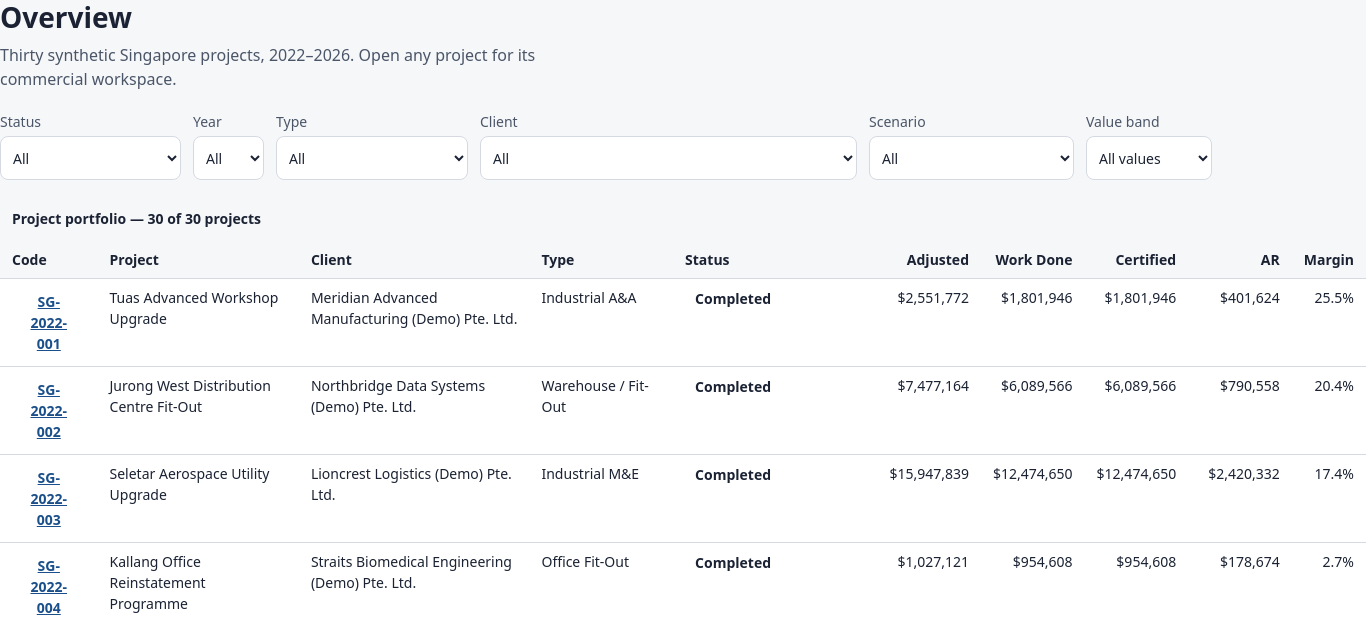
Test: PortfolioView (TASK-004) › filters by value band
Select "≥ S$50M" in the dropdown labelled "Value band". click: (1149, 158)
box: [1086, 136, 1212, 180]
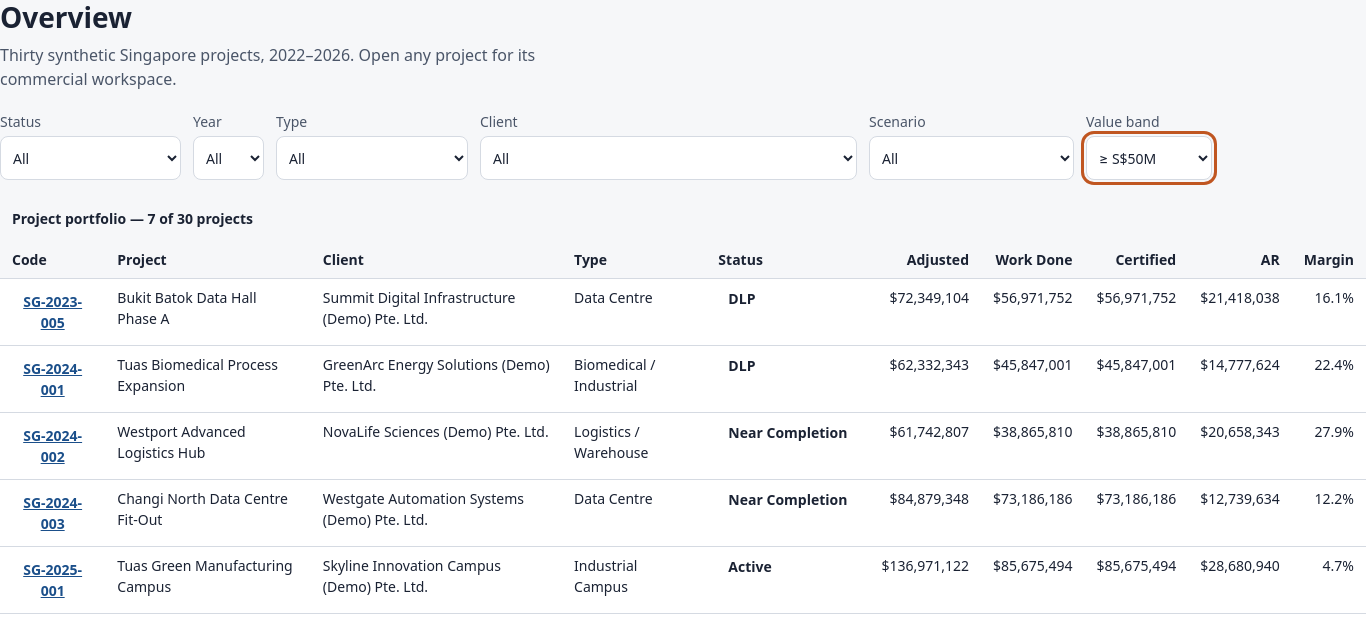
Now the text "of 30 projects" no longer shows "30 of 30 projects"
